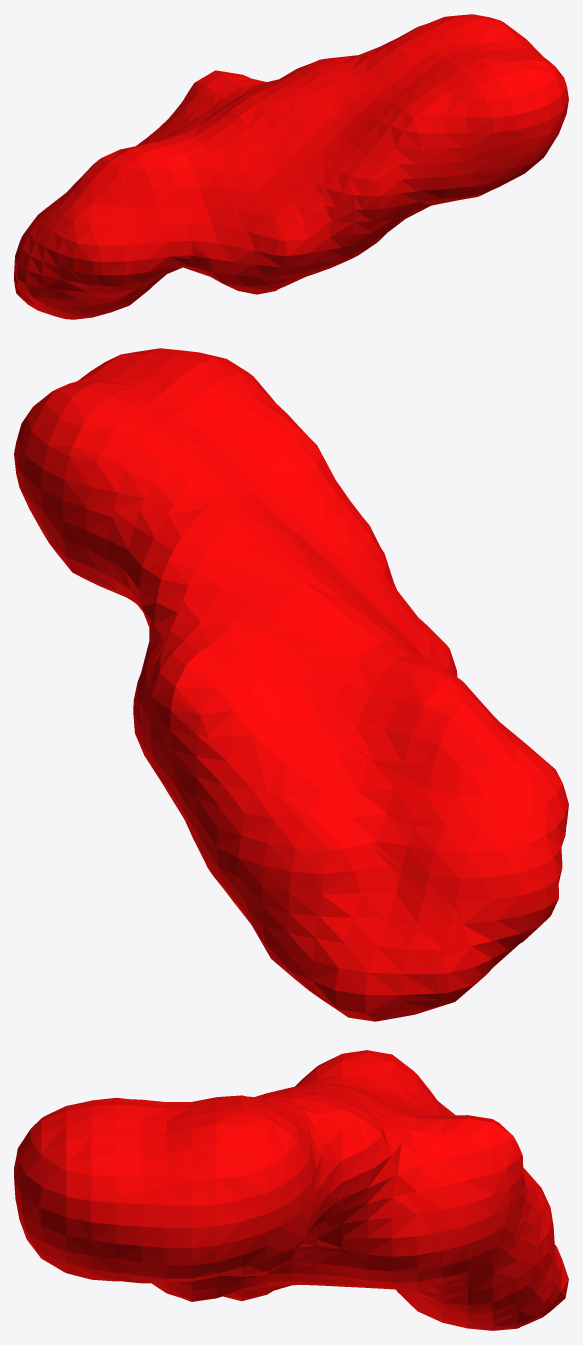
Rendered from rcnR_coarse.dae.
3 renders of one model, top to bottom at view 1: azimuth 30°, elevation 25°; view 2: azimuth 150°, elevation 25°; view 3: azimuth 270°, elevation 25°, orthographic. The views are drawn at different scales.
Visible parts, largest first — view 1: rcnR; view 2: rcnR; view 3: rcnR.
Boxes of the visible parts, <box> form: rcnR: <box>14,14,568,319</box>; rcnR: <box>14,348,568,1021</box>; rcnR: <box>14,1050,568,1330</box>.
Size of the model in its own units: 55.46 by 33.92 by 42.4.
